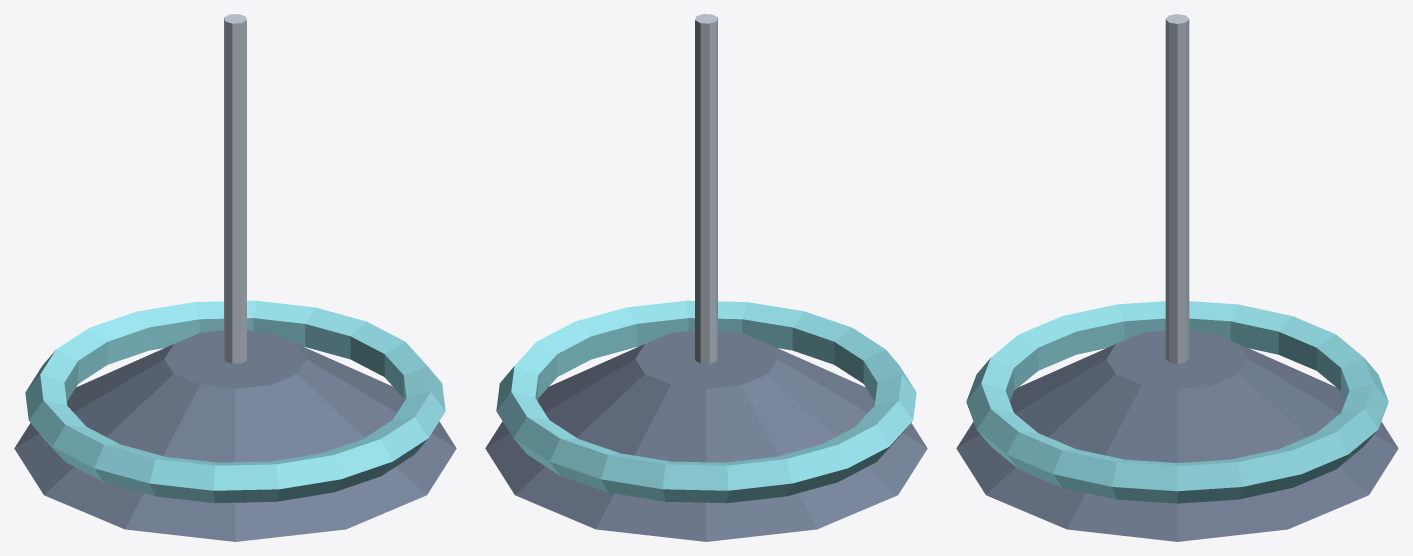
Rendered from lampara_colgante.glb.
The picture shows the model from 3 angles, left to right: view 1: azimuth 30°, elevation 25°; view 2: azimuth 150°, elevation 25°; view 3: azimuth 270°, elevation 25°; orthographic projection.
Visible parts, largest first — view 1: lampara_colgante; view 2: lampara_colgante; view 3: lampara_colgante.
Boxes of the visible parts, bbox=[...] form: lampara_colgante: bbox=[14, 14, 456, 541]; lampara_colgante: bbox=[485, 14, 927, 541]; lampara_colgante: bbox=[956, 14, 1398, 541].
Size of the model in its own units: 1.12 by 1.31 by 1.12.
